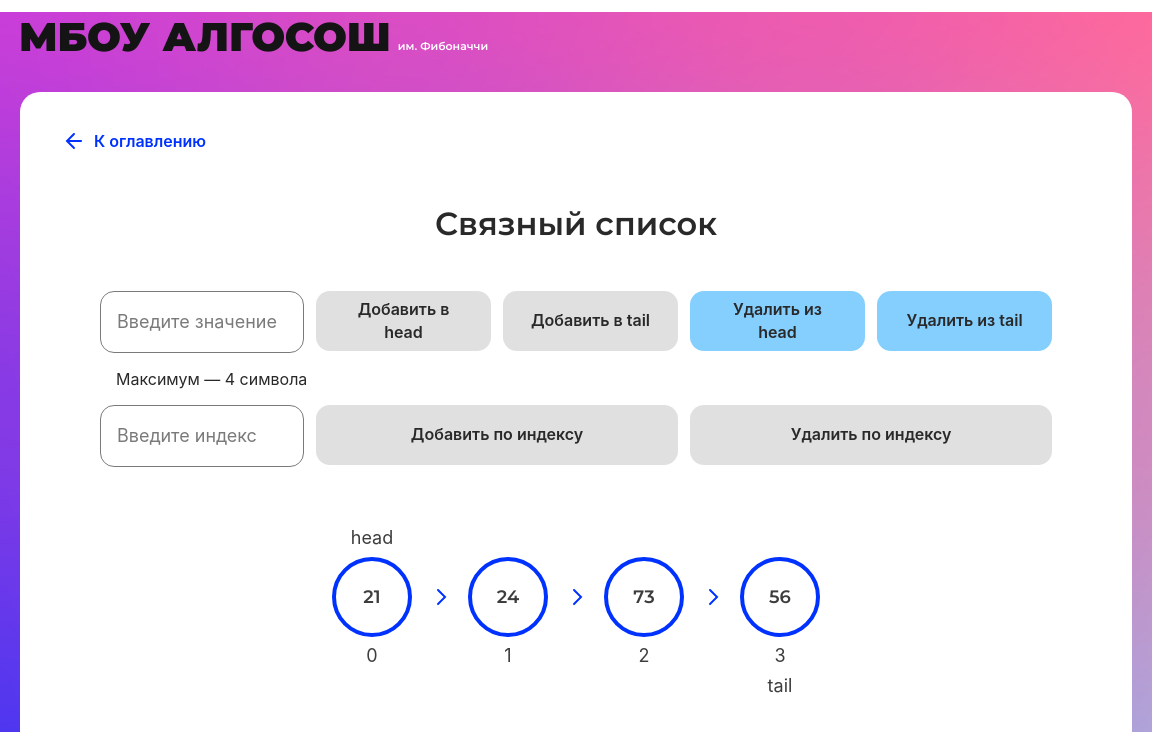
Test: list › remove element head
Expected: the heading "Связный список" is shown, [435,204,717,243]
Step 1. Type "1" into the field with test id "listInputEl" → coordinates (202, 322), box [100,291,304,353]
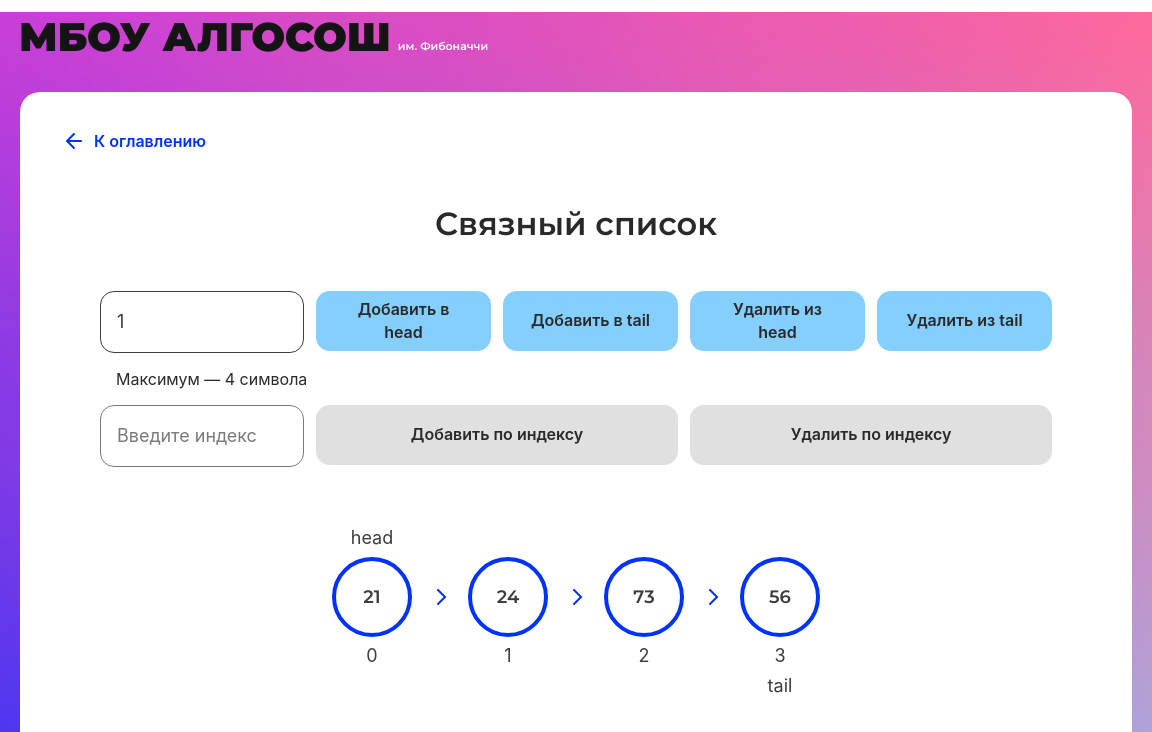
Step 2. Click the button with test id "listButtonAddHead" → coordinates (404, 321), box [316,291,491,351]
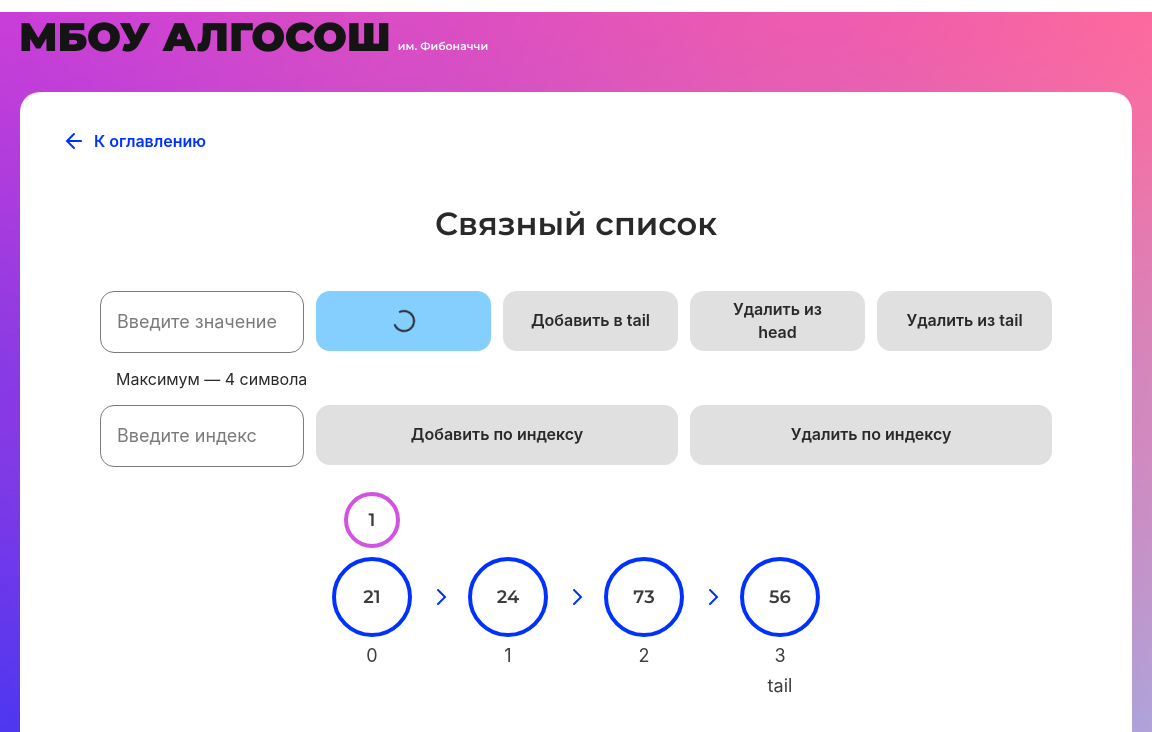
Step 3. Type "2" into the field with test id "listInputEl" → coordinates (202, 322), box [100,291,304,353]
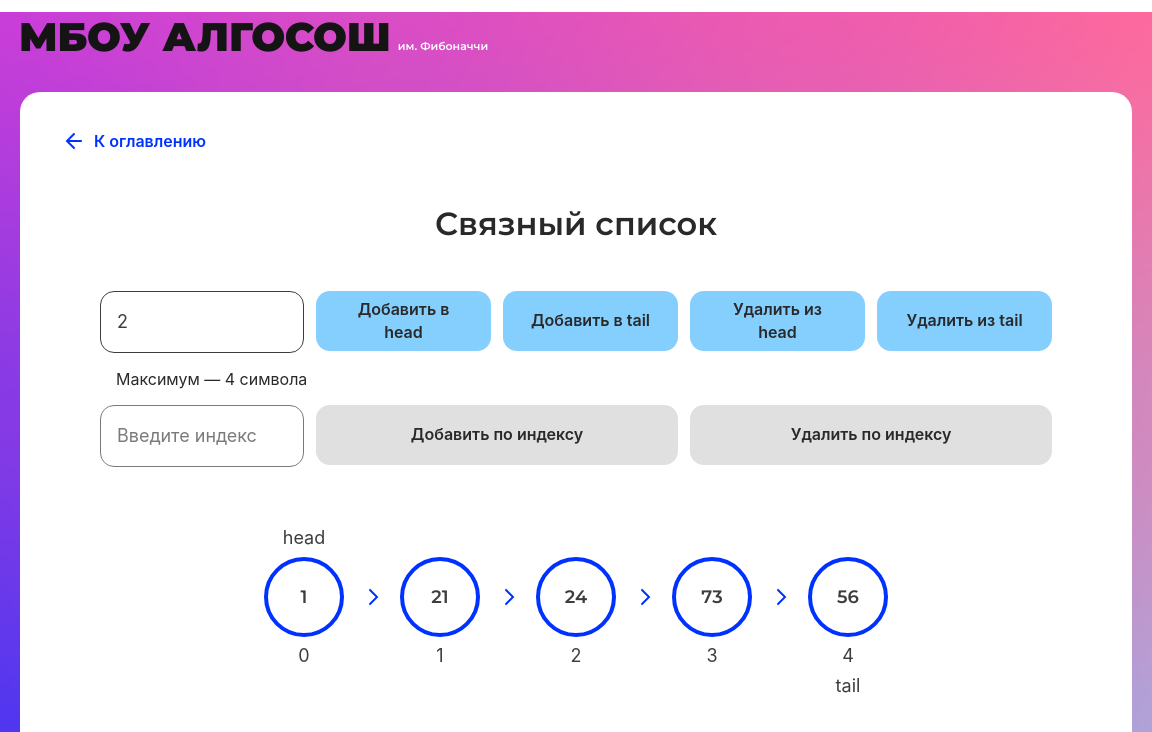
Step 4. Click the button with test id "listButtonAddHead" → coordinates (404, 321), box [316,291,491,351]
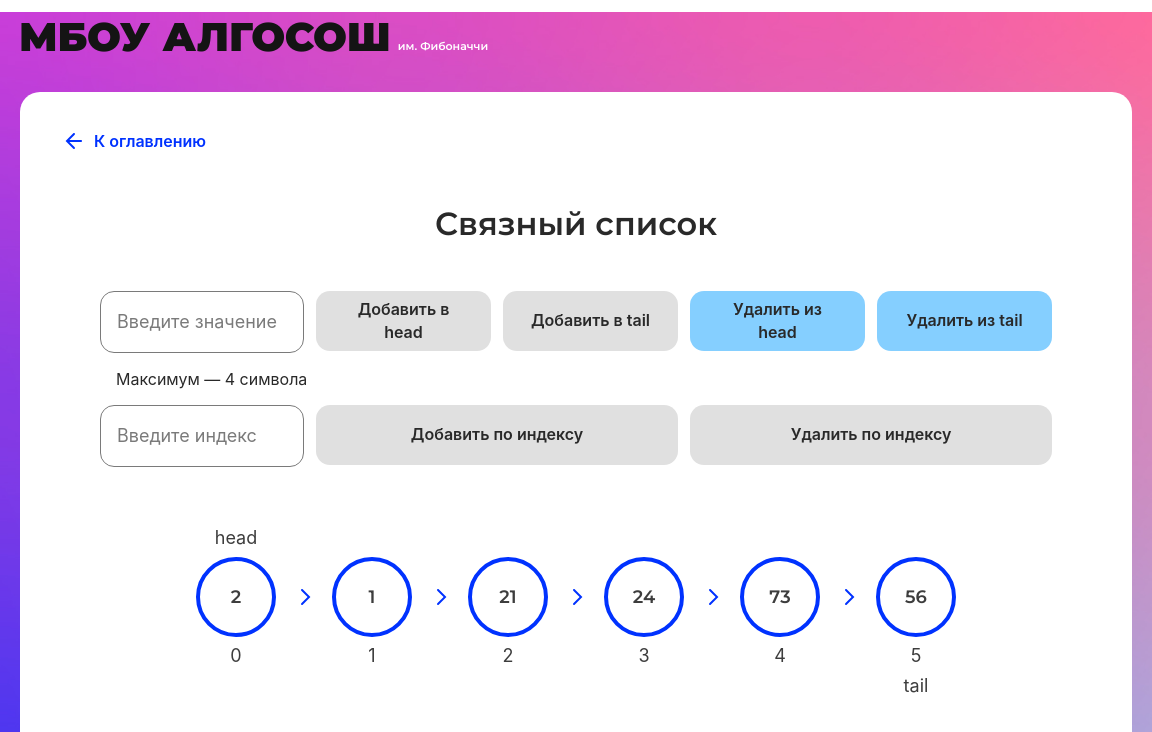
Step 5. Click the button with test id "listButtonDelHead" → coordinates (778, 321), box [690,291,865,351]
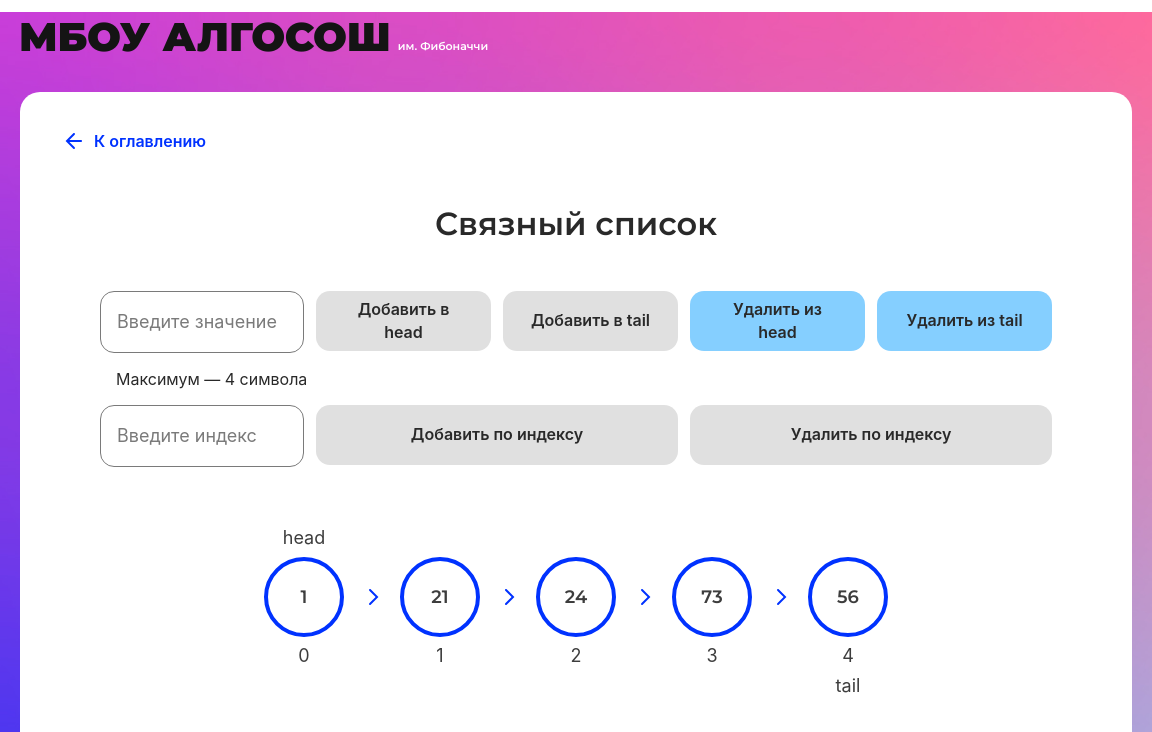
Expected: the text "head" is shown, [283,527,325,549]
Expected: the text "4" is shown, [842,645,854,667]
Expected: the element with test id "stringCircle" reads "1", [264,557,344,637]
